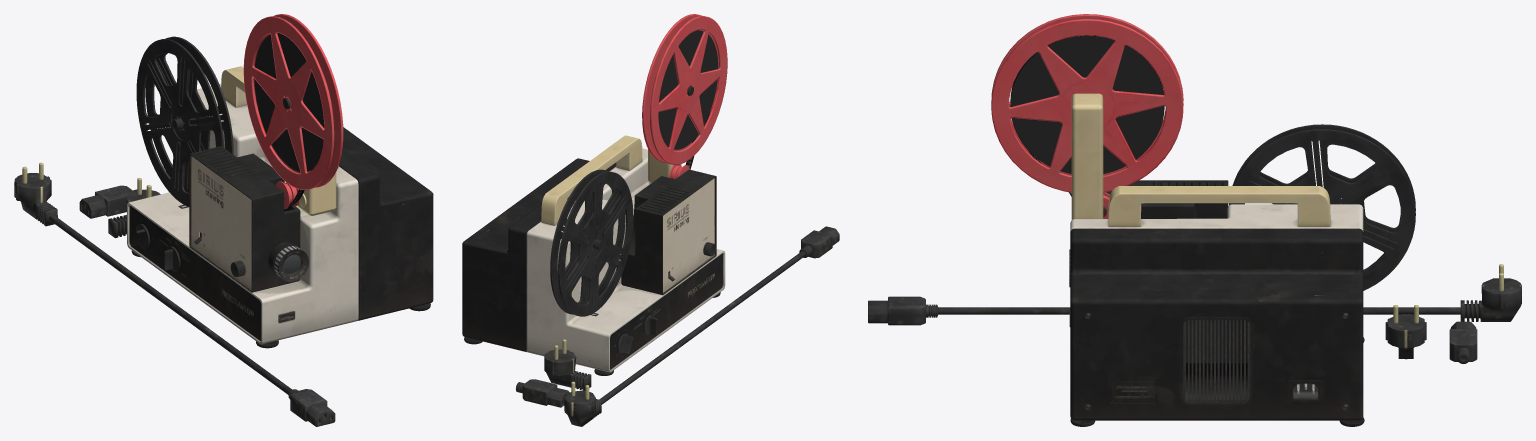
File: filmstrip_projector_8mm.glb
3 views of the same model, side by side, from view 1: azimuth 30°, elevation 25°; view 2: azimuth 150°, elevation 25°; view 3: azimuth 270°, elevation 25° (orthographic). The views are drawn at different scales.
Parts seen in each view (by area): view 1: filmstrip_projector_8mm, filmstrip_projector_8mm_spool_feed, filmstrip_projector_8mm_spool_takeup, filmstrip_projector_8mm_cable, filmstrip_projector_8mm_01_film_side, filmstrip_projector_8mm_connector, filmstrip_projector_8mm_spool_arm, filmstrip_projector_8mm_schuko; view 2: filmstrip_projector_8mm, filmstrip_projector_8mm_spool_takeup, filmstrip_projector_8mm_spool_feed, filmstrip_projector_8mm_cable, filmstrip_projector_8mm_01_film_side, filmstrip_projector_8mm_schuko, filmstrip_projector_8mm_connector, filmstrip_projector_8mm_spool_arm; view 3: filmstrip_projector_8mm, filmstrip_projector_8mm_spool_feed, filmstrip_projector_8mm_spool_takeup, filmstrip_projector_8mm_01_film_side, filmstrip_projector_8mm_cable, filmstrip_projector_8mm_spool_arm, filmstrip_projector_8mm_schuko, filmstrip_projector_8mm_connector.
Boxes of the visible parts, x1,y1,x2,y2 form: filmstrip_projector_8mm: (127,66,433,348); filmstrip_projector_8mm_spool_feed: (243,14,343,189); filmstrip_projector_8mm_spool_takeup: (136,36,233,206); filmstrip_projector_8mm_cable: (14,162,335,426); filmstrip_projector_8mm_01_film_side: (254,33,324,171); filmstrip_projector_8mm_connector: (79,185,137,218); filmstrip_projector_8mm_spool_arm: (297,101,336,215); filmstrip_projector_8mm_schuko: (108,178,160,238); filmstrip_projector_8mm: (462,135,725,375); filmstrip_projector_8mm_spool_takeup: (550,169,633,316); filmstrip_projector_8mm_spool_feed: (642,14,727,164); filmstrip_projector_8mm_cable: (564,226,839,426); filmstrip_projector_8mm_01_film_side: (658,30,718,149); filmstrip_projector_8mm_schuko: (544,339,591,390); filmstrip_projector_8mm_connector: (516,379,569,407); filmstrip_projector_8mm_spool_arm: (648,149,681,182); filmstrip_projector_8mm: (1069,180,1364,426); filmstrip_projector_8mm_spool_feed: (991,14,1183,192); filmstrip_projector_8mm_spool_takeup: (1229,124,1415,290); filmstrip_projector_8mm_01_film_side: (1010,36,1164,173); filmstrip_projector_8mm_cable: (868,264,1521,325); filmstrip_projector_8mm_spool_arm: (1071,93,1103,219); filmstrip_projector_8mm_schuko: (1385,305,1426,359); filmstrip_projector_8mm_connector: (1449,321,1477,363).
Bounding box in the file's own units: 0.2537 × 0.3454 × 0.6026.
2 materials, 2 textured.
